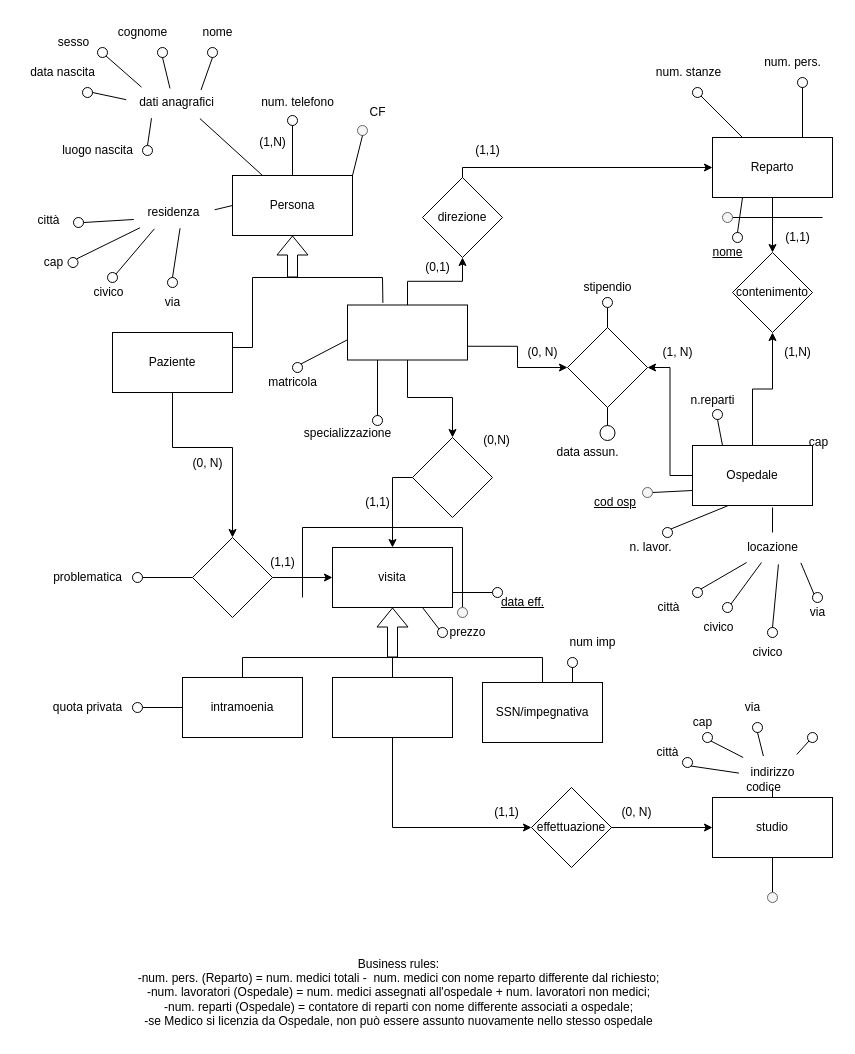
Some shapes in this 855 by 1054 pixel diagram are drawn without their labels. The centre of each missing label's shape, as x and y in pixels:
gestione: (452,477)
lavoro: (607,367)
Medico: (407,332)
prenotazione: (232,577)
Privata: (392,707)
